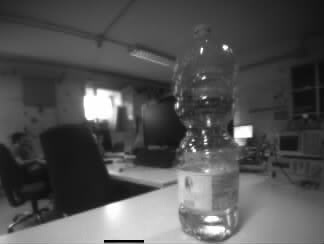Bottle: (172, 23, 240, 241)
